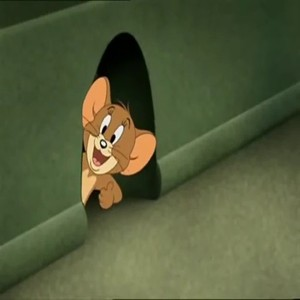Jerry: (75, 73, 156, 210)
